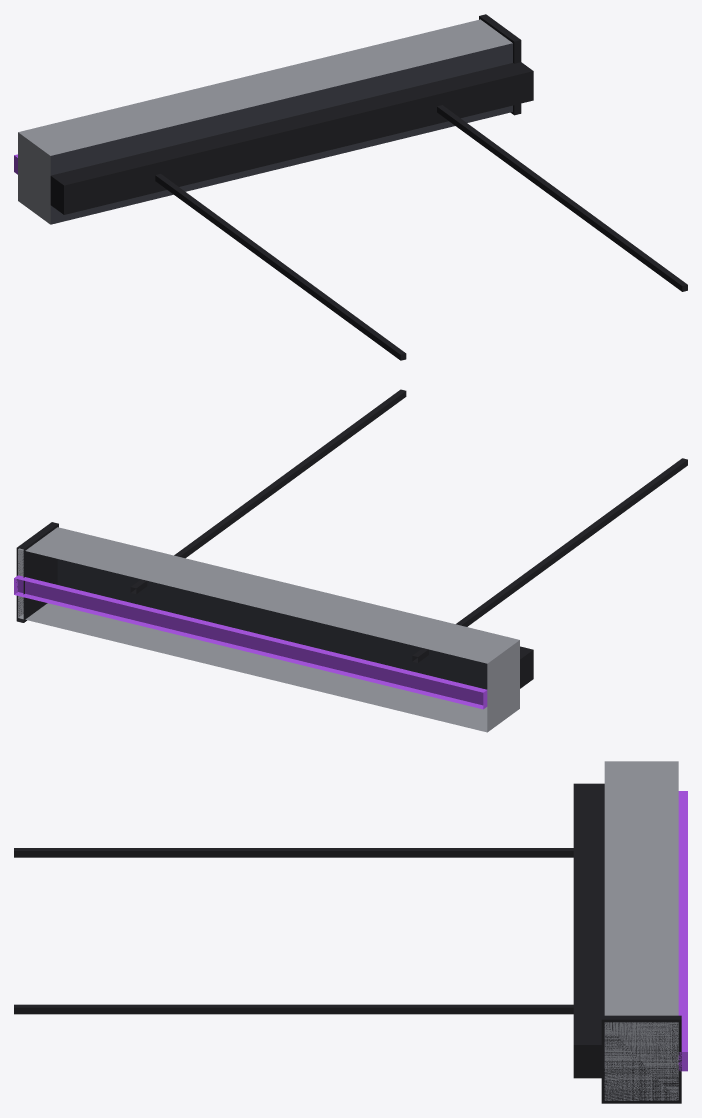
The model's file is b_lamp_large_basic_xn.obj.
3 renders of one model, top to bottom at view 1: azimuth 30°, elevation 25°; view 2: azimuth 150°, elevation 25°; view 3: azimuth 270°, elevation 25°, orthographic. The views are drawn at different scales.
Bounding box in the file's own units: 1 × 0.15 × 1.09.
1 material, 1 textured.
